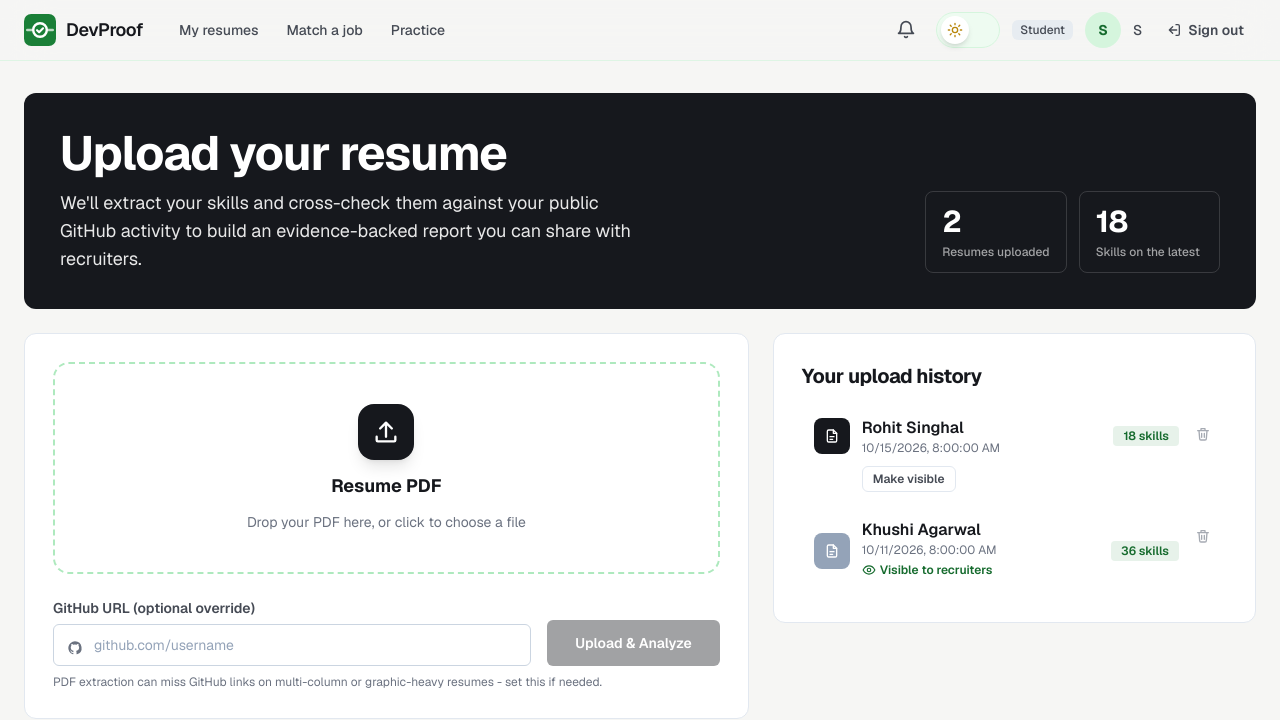
Test: StudentUpload page › deletes an upload from the history after confirming
This screenshot has width=1280, height=720.
Click the button named "Delete upload Rohit Singhal" at {"x": 1203, "y": 434}, box [1187,418,1219,450]
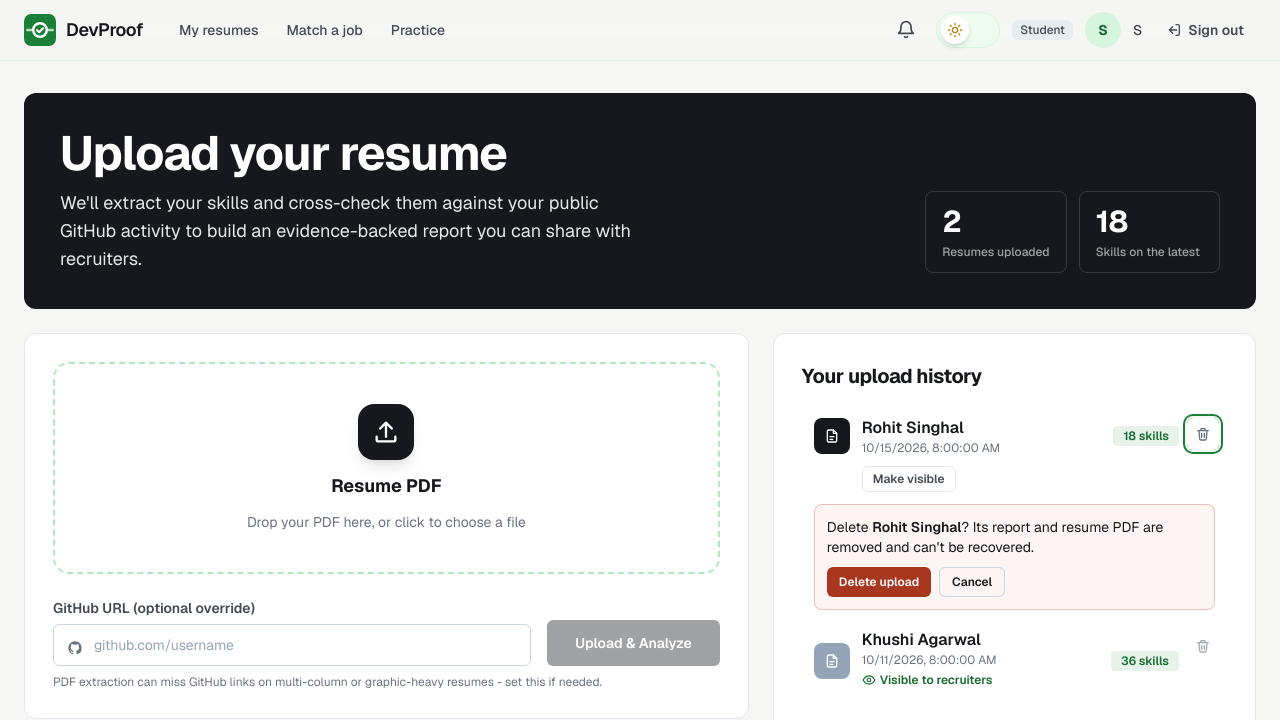
expect the message shows "Delete Rohit Singhal?": met, box [814,504,1215,610]
Click the button "Delete upload" at {"x": 879, "y": 582}, box [827,567,931,597]
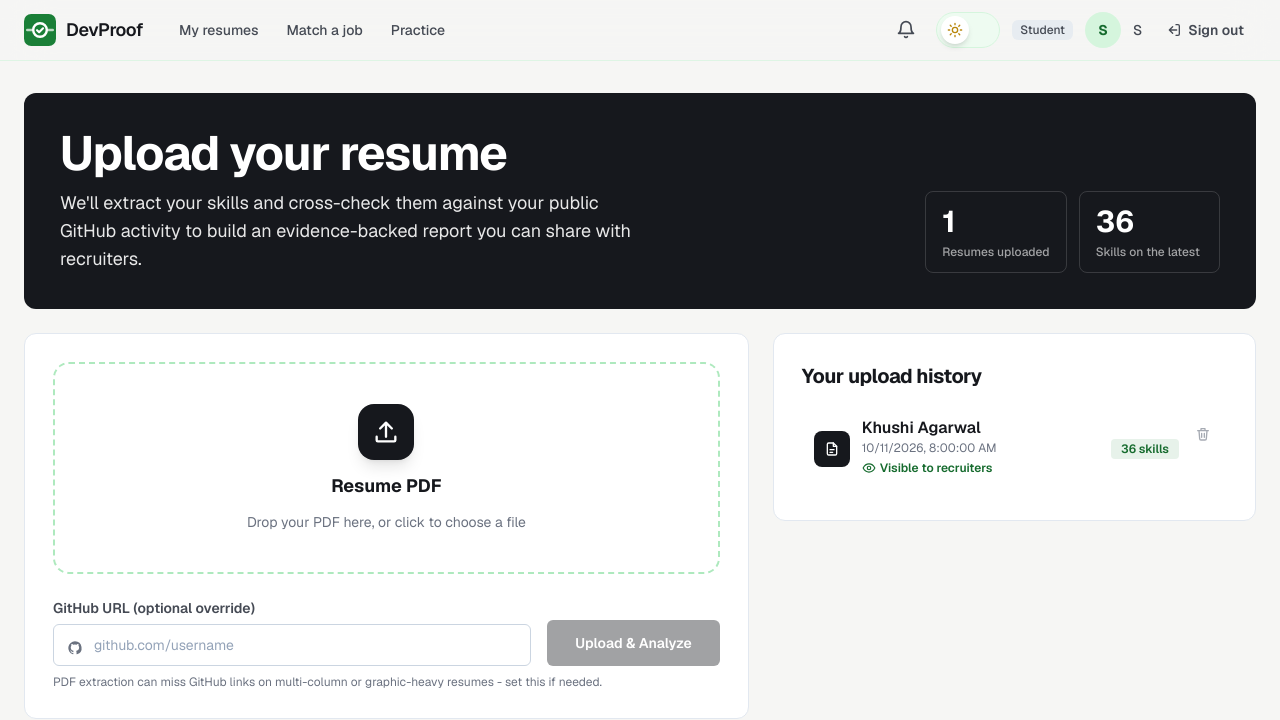
expect the text "Khushi Agarwal" is shown: met, box [862,417,981,438]
expect the link "Rohit Singhal" is gone: met
